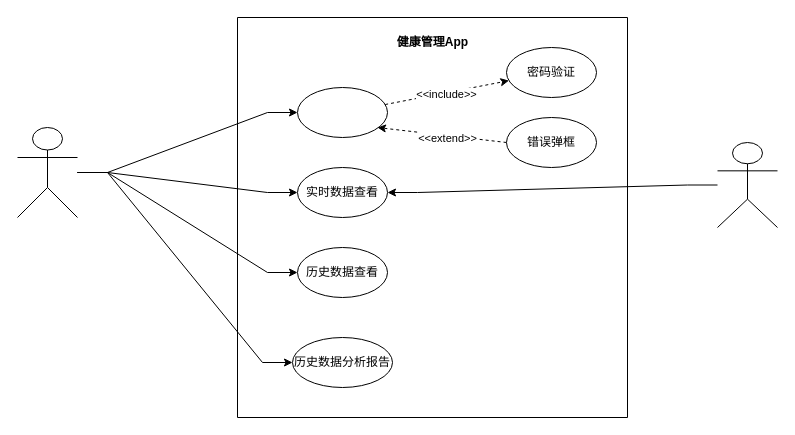
The diagram is 795 pixels wide and 435 high, and some of its shapes have lost their labels. Each missing label, with the centre of its shape:
消费者: the point at 47,172
登陆: the point at 342,112
穿戴设备: the point at 747,185
